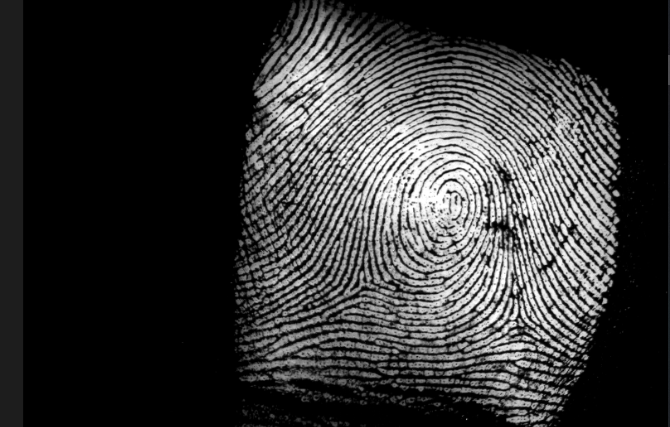nucelo: (431, 179, 465, 224)
verticilo: (347, 265, 377, 298), (505, 299, 532, 330)
